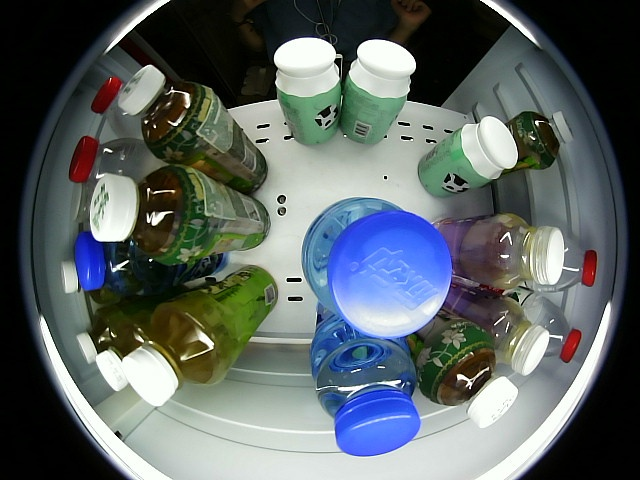asamu_xiaoye: (340, 39, 418, 145), (418, 116, 517, 197), (274, 37, 341, 146)
maidong_qingning: (303, 198, 452, 337), (310, 300, 422, 457), (74, 231, 227, 293)
moliqingcha: (117, 64, 269, 194), (89, 165, 272, 265), (406, 299, 517, 428), (495, 111, 575, 178)
nongfushanquan: (499, 285, 582, 362), (70, 135, 172, 186), (521, 236, 597, 293), (90, 77, 146, 138)
shuiputao: (438, 274, 550, 376), (431, 212, 564, 289), (70, 180, 98, 222)
tianwo_fengmiyouzi: (123, 267, 278, 405), (77, 285, 188, 364), (95, 308, 157, 391), (61, 262, 124, 306)
